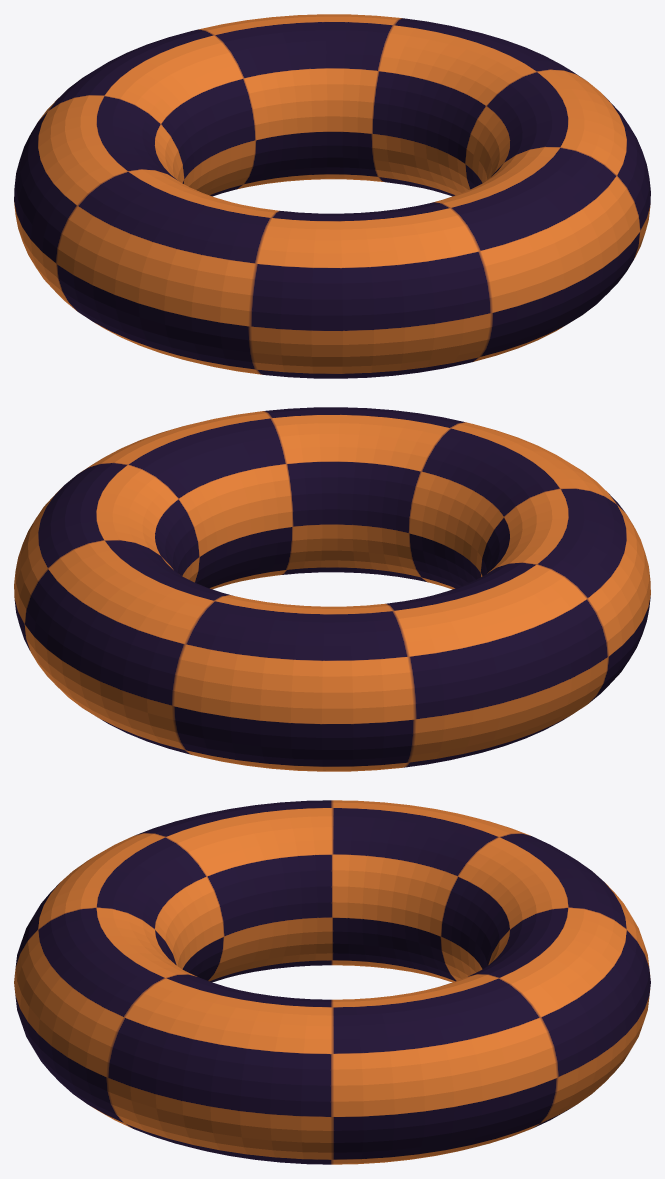
The picture shows the model from 3 angles, top to bottom: view 1: azimuth 30°, elevation 25°; view 2: azimuth 150°, elevation 25°; view 3: azimuth 270°, elevation 25°; orthographic projection.
Visible parts, largest first — view 1: SmokeTorus; view 2: SmokeTorus; view 3: SmokeTorus.
Boxes of the visible parts, left/top/right/bottom form: SmokeTorus: left=14, top=14, right=650, bottom=378; SmokeTorus: left=14, top=407, right=650, bottom=771; SmokeTorus: left=14, top=800, right=650, bottom=1164.
Size of the model in its own units: 2.7 by 0.7 by 2.7.
1 material, 1 textured.
